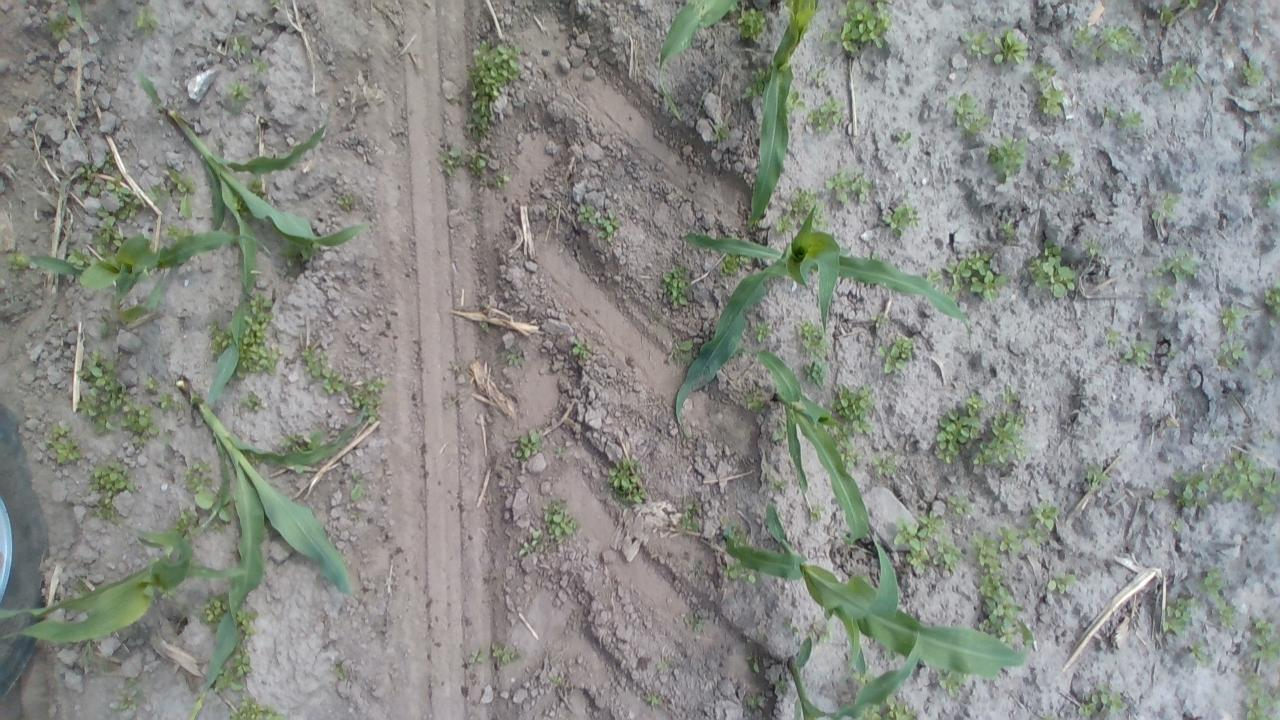Maize: (138, 72, 368, 428), (676, 199, 971, 442), (134, 380, 350, 692), (724, 503, 1026, 676), (1, 533, 248, 642), (756, 350, 876, 542), (31, 230, 275, 324), (751, 0, 816, 228), (788, 631, 921, 720), (662, 0, 736, 122)
Weeds: (1213, 450, 1278, 521), (471, 42, 520, 133), (974, 528, 1013, 598), (974, 412, 1026, 463), (81, 353, 122, 415), (1031, 241, 1075, 298), (934, 412, 980, 463), (840, 11, 884, 52), (950, 96, 990, 137), (1032, 65, 1066, 113), (1171, 470, 1209, 512), (164, 168, 196, 217), (609, 459, 645, 502), (1244, 674, 1276, 720), (986, 140, 1026, 176), (834, 386, 872, 423), (250, 296, 271, 362), (1249, 622, 1280, 666), (1150, 248, 1196, 277), (92, 467, 130, 501), (970, 271, 1006, 304), (185, 465, 212, 509), (993, 31, 1027, 64), (1073, 28, 1105, 62), (543, 502, 573, 536), (1166, 595, 1190, 635), (121, 408, 152, 438), (808, 99, 840, 128), (798, 321, 826, 354), (661, 268, 689, 301), (894, 524, 927, 551), (228, 702, 277, 720), (943, 259, 971, 290), (739, 8, 766, 40), (1210, 593, 1236, 625), (245, 332, 268, 368), (357, 377, 383, 408), (511, 432, 542, 458), (936, 538, 960, 570), (919, 511, 946, 538), (300, 348, 324, 378), (1160, 63, 1192, 85), (891, 204, 920, 228), (826, 173, 850, 202), (939, 675, 964, 702), (322, 367, 346, 395), (876, 348, 901, 374), (967, 30, 991, 56), (1108, 26, 1134, 50), (1087, 466, 1111, 492), (998, 526, 1021, 553), (52, 440, 80, 462), (682, 502, 702, 532), (489, 642, 516, 664), (1220, 304, 1246, 326), (473, 151, 499, 173), (804, 361, 827, 385), (966, 251, 989, 275), (1033, 506, 1057, 529), (1220, 340, 1245, 362), (94, 226, 119, 248), (888, 701, 918, 719), (598, 218, 622, 240), (992, 598, 1016, 620), (1131, 340, 1152, 365), (1050, 574, 1076, 594), (791, 186, 809, 214), (1242, 62, 1264, 84), (890, 338, 913, 359), (1264, 286, 1280, 316), (1092, 693, 1122, 709), (137, 6, 157, 30), (48, 15, 70, 36), (949, 494, 972, 514), (852, 177, 872, 200), (576, 202, 599, 222), (1115, 112, 1143, 128), (228, 80, 250, 100), (1156, 286, 1174, 310), (236, 655, 252, 681), (876, 456, 896, 476), (754, 321, 772, 343), (1204, 568, 1222, 590), (1019, 526, 1043, 542), (1158, 9, 1178, 28), (231, 35, 250, 55), (998, 386, 1019, 404), (1000, 617, 1016, 640), (720, 255, 738, 275), (672, 338, 692, 356), (444, 148, 464, 166), (205, 601, 222, 621), (210, 326, 224, 350), (774, 215, 794, 231), (967, 393, 985, 410), (573, 344, 592, 360), (1160, 196, 1175, 216), (1189, 644, 1207, 660), (1260, 191, 1276, 208), (507, 348, 522, 366), (852, 420, 874, 432), (1058, 151, 1073, 168), (1078, 702, 1096, 716), (467, 650, 484, 664), (51, 423, 68, 437), (644, 694, 663, 706), (166, 224, 182, 238), (1152, 485, 1169, 498), (1002, 224, 1016, 238), (238, 612, 254, 624), (1107, 328, 1120, 342), (1086, 240, 1098, 255), (254, 60, 269, 72), (750, 658, 760, 672), (1187, 0, 1202, 8), (1172, 519, 1180, 530), (1152, 211, 1160, 219)
